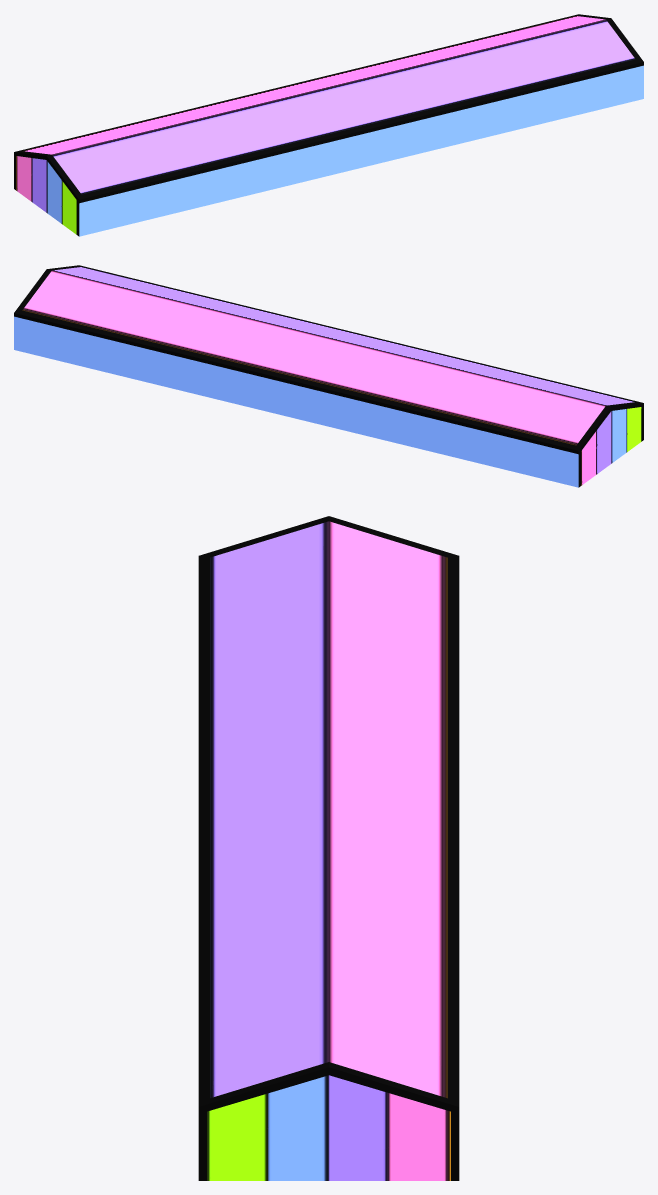
File: cocobay_floor_teeth.gltf
3 views of the same model, one above another, from view 1: azimuth 30°, elevation 25°; view 2: azimuth 150°, elevation 25°; view 3: azimuth 270°, elevation 25° (orthographic). The views are drawn at different scales.
Visible parts, largest first — view 1: cocobay_floor_teeth_glb; view 2: cocobay_floor_teeth_glb; view 3: cocobay_floor_teeth_glb.
Part boxes in pixels (bbox=[...]): cocobay_floor_teeth_glb: bbox=[14, 14, 643, 236]; cocobay_floor_teeth_glb: bbox=[14, 265, 643, 487]; cocobay_floor_teeth_glb: bbox=[198, 516, 459, 1180].
Size of what is drawn, in the model's own units: 4 by 0.3849 by 0.8.
Materials: 1 (1 with a texture image).
